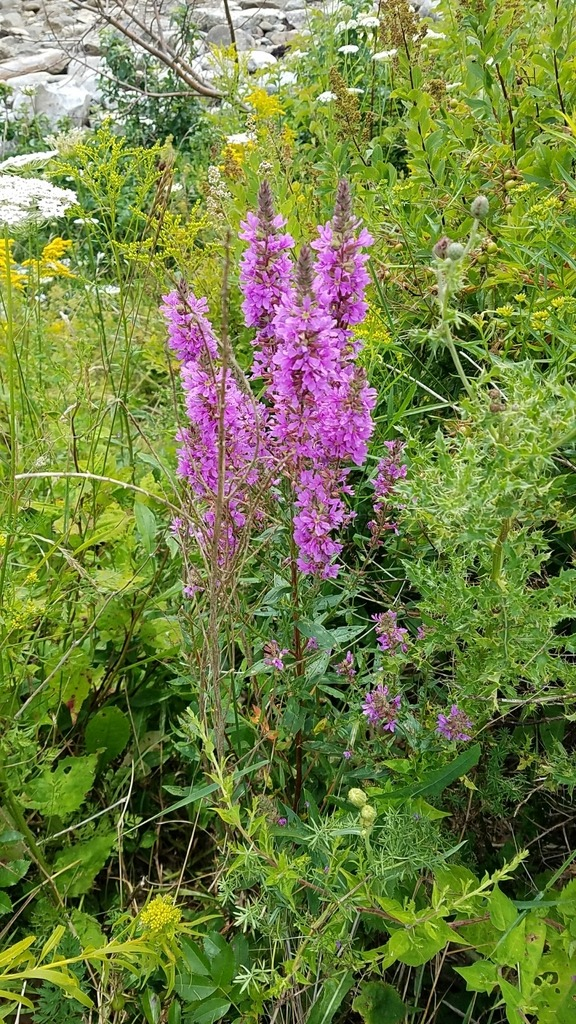purple loosestrife: (157, 176, 475, 752)
